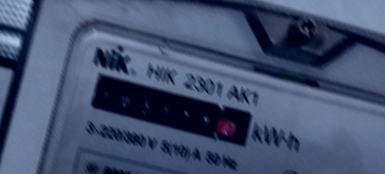0: (94, 84, 110, 105), (117, 89, 131, 109)
1: (158, 96, 170, 116)
3: (137, 96, 149, 116)
6: (217, 122, 230, 139)
9: (197, 110, 209, 129), (178, 103, 189, 122)
screen: (79, 68, 260, 154)
